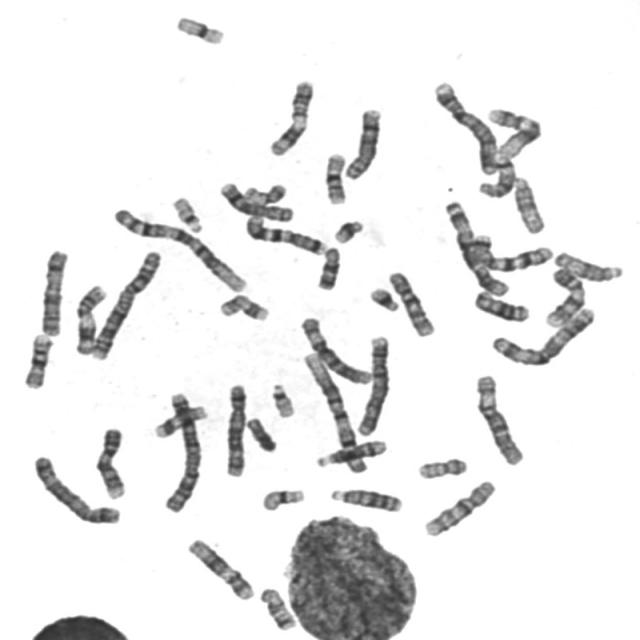A1: (108, 204, 250, 294), (299, 348, 369, 476)
A2: (88, 246, 165, 362), (158, 390, 206, 514)
A3: (487, 302, 599, 368), (441, 196, 512, 298)
B4: (430, 77, 500, 176), (352, 331, 393, 437)
B5: (29, 451, 122, 526), (220, 379, 250, 478)
C10: (419, 476, 500, 538), (384, 266, 438, 338)
C11: (265, 75, 317, 158), (70, 280, 110, 356)
C12: (183, 534, 257, 602), (486, 107, 542, 162)
C6: (297, 313, 374, 387), (471, 369, 528, 466)
C7: (242, 210, 328, 257), (466, 231, 556, 273)
C8: (216, 178, 296, 223), (340, 104, 385, 181)
C9: (541, 264, 589, 328), (92, 422, 130, 500)
D13: (326, 483, 405, 514), (470, 287, 533, 323)
D14: (312, 436, 390, 468), (476, 152, 515, 200)
D15: (552, 246, 626, 283), (509, 172, 548, 235)
E16: (18, 330, 56, 390), (320, 149, 350, 206)
E17: (150, 400, 210, 440), (215, 290, 272, 323)
E18: (256, 584, 299, 632), (313, 243, 342, 292)
F19: (171, 11, 227, 46), (258, 484, 307, 512)
F20: (414, 453, 471, 480), (241, 180, 289, 204)
G21: (365, 283, 402, 314), (329, 216, 366, 245)
G22: (168, 192, 206, 234), (266, 379, 298, 419)
X: (36, 244, 71, 338)
Y: (242, 413, 280, 454)
